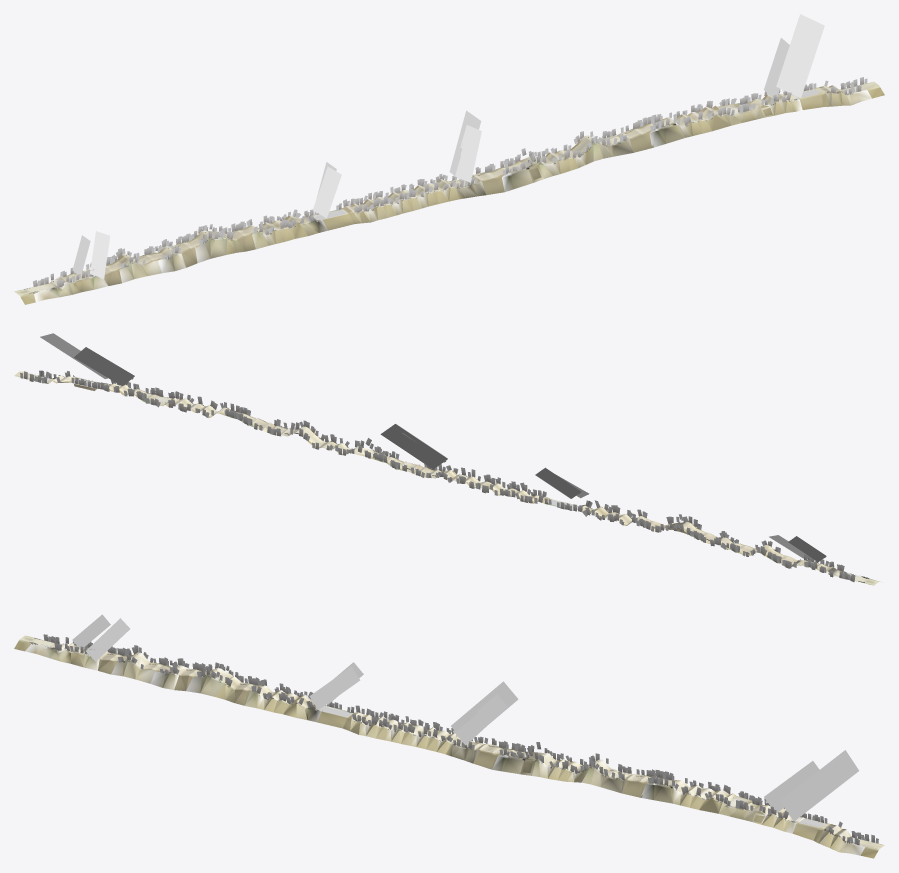
The model's file is Beach_07.fbx.
3 renders of one model, top to bottom at view 1: azimuth 30°, elevation 25°; view 2: azimuth 150°, elevation 25°; view 3: azimuth 330°, elevation 25°, orthographic.
Parts seen in each view (by area): view 1: Mountain_01, Tree_01, Light_01, Road_01, Ground_01; view 2: Tree_01, Light_01, Ground_01, Road_01; view 3: Mountain_01, Tree_01, Light_01, Road_01, Ground_01.
Part boxes in pixels (x1=…): Mountain_01: x1=34, y1=89, x2=871, y2=302; Tree_01: x1=33, y1=77, x2=867, y2=293; Light_01: x1=72, y1=14, x2=824, y2=278; Road_01: x1=14, y1=82, x2=884, y2=304; Ground_01: x1=15, y1=82, x2=878, y2=295; Tree_01: x1=20, y1=370, x2=867, y2=581; Light_01: x1=40, y1=333, x2=826, y2=561; Ground_01: x1=15, y1=371, x2=878, y2=585; Road_01: x1=14, y1=373, x2=879, y2=585; Mountain_01: x1=25, y1=643, x2=865, y2=855; Tree_01: x1=31, y1=634, x2=878, y2=845; Light_01: x1=72, y1=614, x2=858, y2=821; Road_01: x1=14, y1=635, x2=884, y2=858; Ground_01: x1=20, y1=636, x2=883, y2=848.
Bounding box in the file's own units: 119604 × 10354 × 7115.
